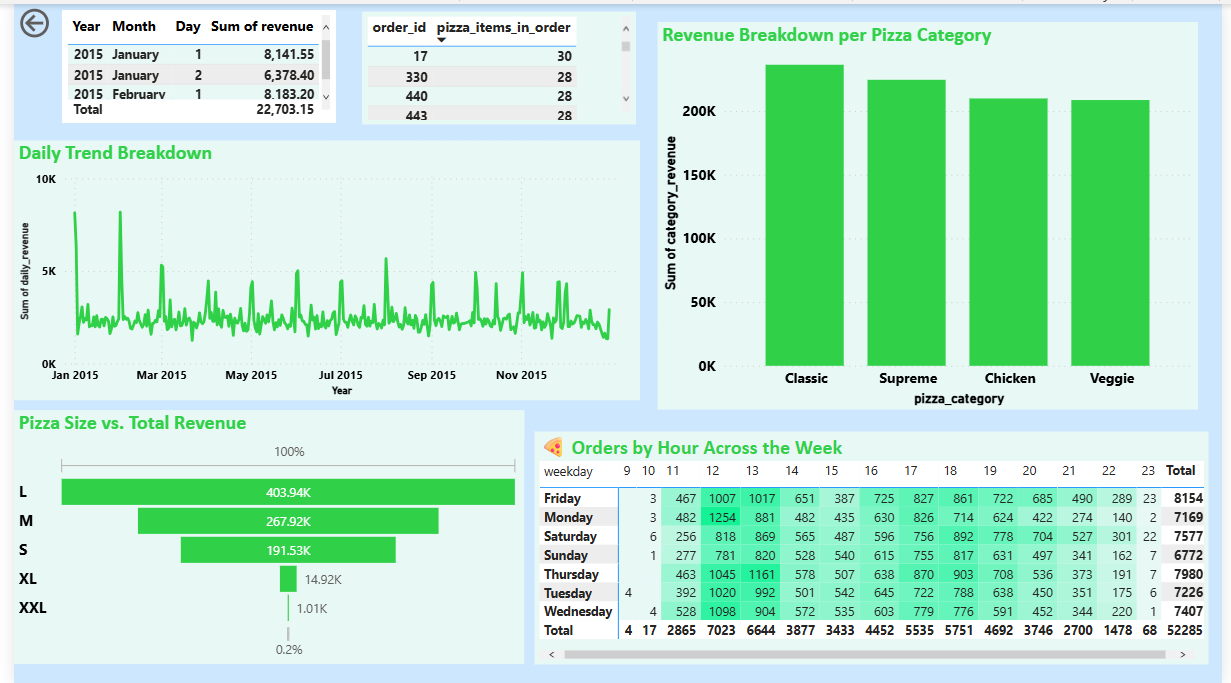

What the dashboard file says about the page in this screenshot:
{"tool":"powerbi","page":{"name":"Page 2","canvas":[1280,720],"ordinal":1},"visuals":[{"type":"lineChart","title":"Daily Trend Breakdown","fields":{"Y":["Sum(Query4.daily_revenue)"],"Category":["Query4.order_date.Variation.Date Hierarchy.Year","Query4.order_date.Variation.Date Hierarchy.Quarter","Query4.order_date.Variation.Date Hierarchy.Month","Query4.order_date.Variation.Date Hierarchy.Day"]},"box":[0,144,663.4,275.1],"z":0},{"type":"columnChart","title":"Revenue Breakdown per Pizza Category","fields":{"Y":["Sum(Query7.category_revenue)"],"Category":["Query7.pizza_category"]},"box":[681.2,19.4,572.8,411],"z":1000},{"type":"actionButton","box":[1.6,0,100.3,40.4],"z":2000},{"type":"tableEx","fields":{"Values":["Query13.order_id","Query13.pizza_items_in_order"]},"box":[368.7,7.9,289.3,119.2],"z":3000},{"type":"tableEx","fields":{"Values":["Query12.order_date.Variation.Date Hierarchy.Year","Query12.order_date.Variation.Date Hierarchy.Month","Query12.order_date.Variation.Date Hierarchy.Day","Sum(Query12.revenue)"]},"box":[50.9,6.4,289.3,119.2],"z":4000},{"type":"pivotTable","title":"🍕 Orders by Hour Across the Week","fields":{"Rows":["Query14.weekday"],"Columns":["Query14.hour"],"Values":["Sum(Query14.total_orders)"]},"box":[551.7,453,713.5,245.9],"z":5000},{"type":"funnel","title":"Pizza Size vs. Total Revenue","fields":{"Category":["Query8.pizza_size"],"Y":["Sum(Query8.size_revenue)"]},"box":[0,430.4,540.4,268.6],"z":6000}]}

Visuals, with their boxes in screenshot pixels (x1, y1, x2, y2), scaled from the page's 1280x720 canvas onto the 1231x683 screenshot:
"Daily Trend Breakdown" lineChart: 0,137,638,398
"Revenue Breakdown per Pizza Category" columnChart: 655,18,1206,408
actionButton: 2,0,98,38
tableEx - Query13.order_id x Query13.pizza_items_in_order: 355,7,633,121
tableEx - Query12.order_date.Variation.Date Hierarchy.Year x Query12.order_date.Variation.Date Hierarchy.Month: 49,6,327,119
"🍕 Orders by Hour Across the Week" pivotTable: 531,430,1217,663
"Pizza Size vs. Total Revenue" funnel: 0,408,520,663
